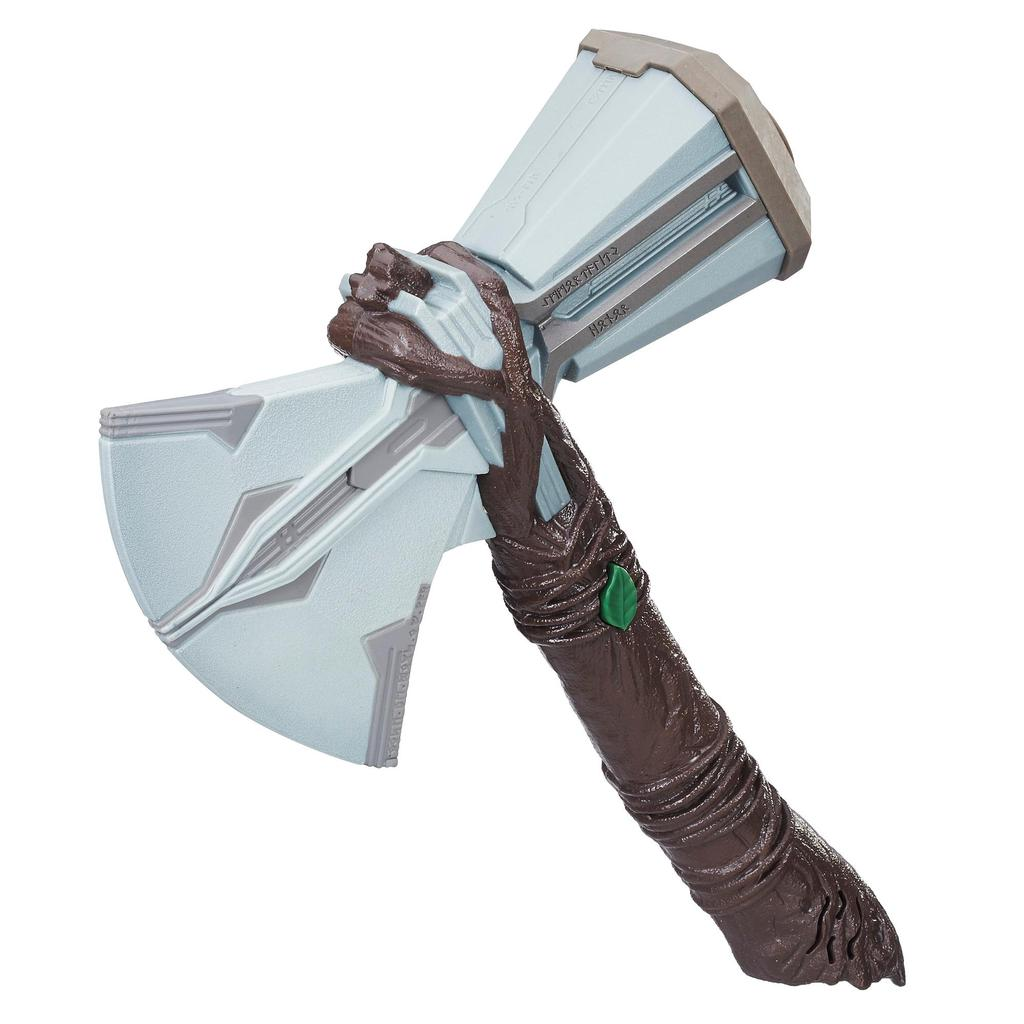THOR Hammer: (57, 28, 912, 958)
